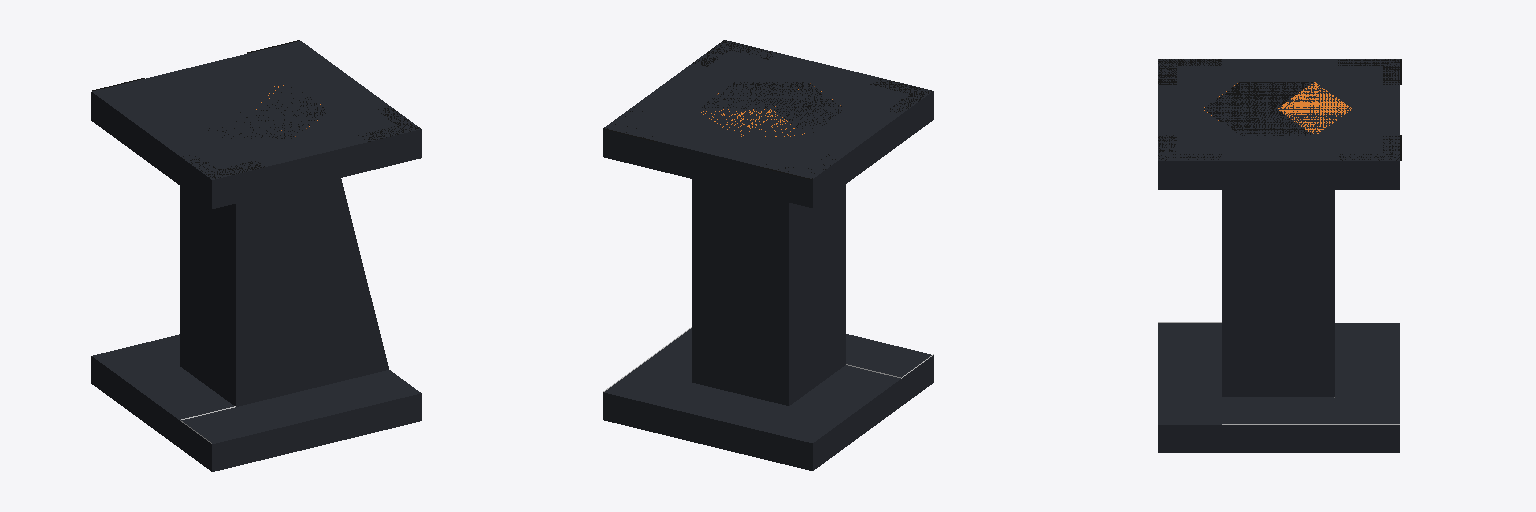
The picture shows the model from 3 angles: view 1: azimuth 30°, elevation 25°; view 2: azimuth 150°, elevation 25°; view 3: azimuth 270°, elevation 25°; orthographic projection.
Visible parts, largest first — view 1: Mesh1 Model, Mesh2 Model; view 2: Mesh1 Model, Mesh2 Model; view 3: Mesh1 Model, Mesh2 Model.
Boxes of the visible parts, <box> form: Mesh1 Model: <box>91,41,421,471</box>; Mesh2 Model: <box>92,40,420,178</box>; Mesh1 Model: <box>603,40,933,470</box>; Mesh2 Model: <box>603,40,931,179</box>; Mesh1 Model: <box>1158,59,1399,452</box>; Mesh2 Model: <box>1158,59,1401,160</box>.
Size of the model in its own units: 0.75 by 1 by 0.7573.
Materials: 3 (1 with a texture image).